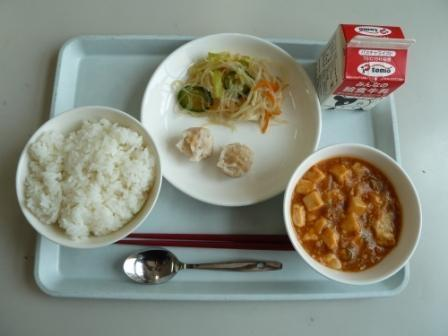Milk: (311, 22, 416, 115)
Rice: (19, 103, 157, 245)
Spicy chili-flavored tofu: (282, 144, 417, 284)
cutlet: (177, 123, 257, 191)
pasta: (179, 40, 294, 130)
